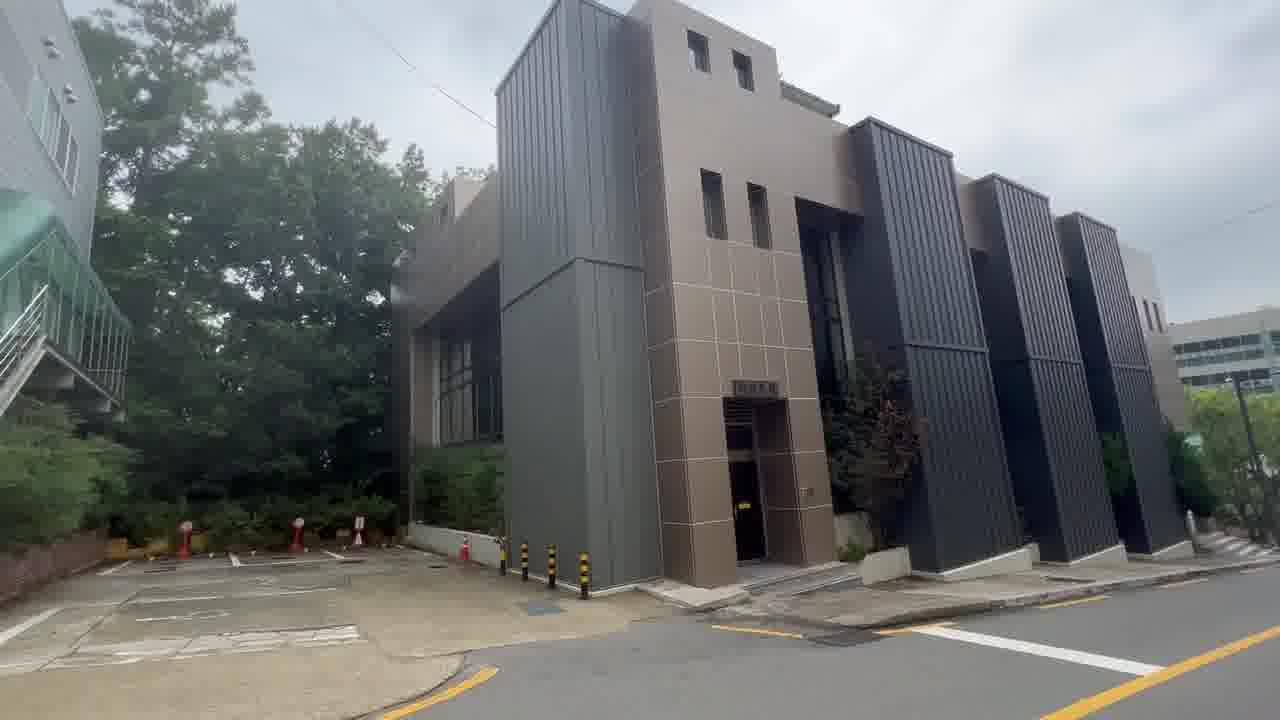building: (369, 13, 1197, 539)
